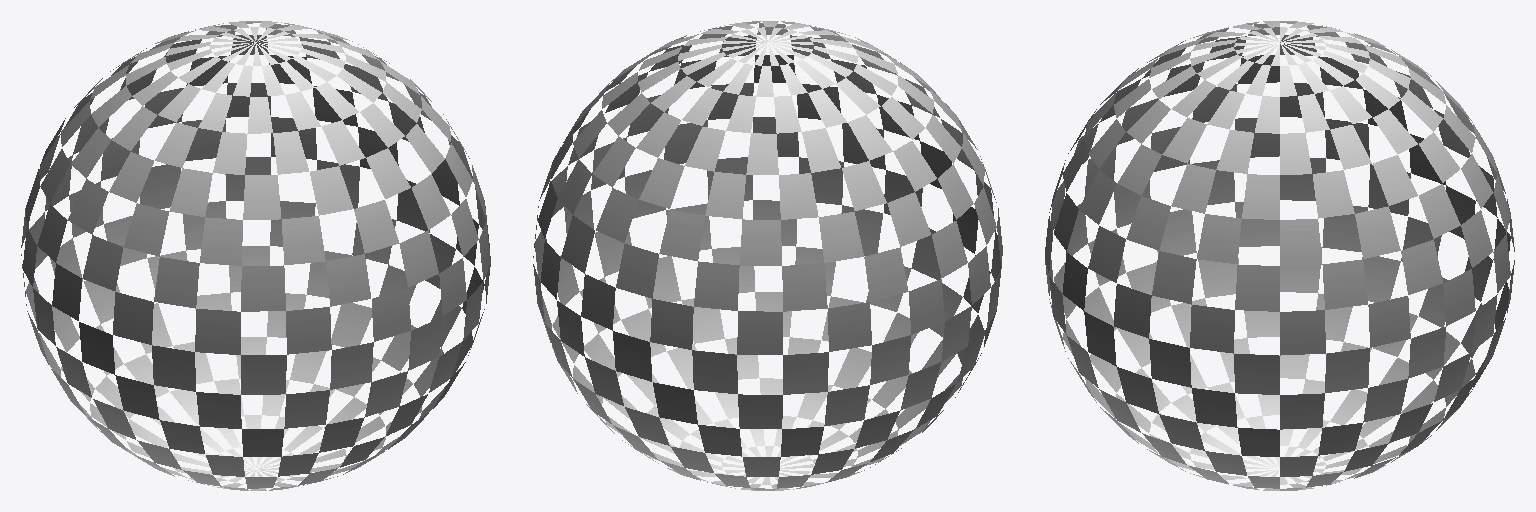
3 renders of one model, left to right at view 1: azimuth 30°, elevation 25°; view 2: azimuth 150°, elevation 25°; view 3: azimuth 270°, elevation 25°, orthographic.
Parts seen in each view (by area): view 1: sphere_球; view 2: sphere_球; view 3: sphere_球.
Boxes of the visible parts, x1,y1,x2,y2 form: sphere_球: [21, 21, 490, 490]; sphere_球: [533, 21, 1002, 490]; sphere_球: [1045, 21, 1514, 490].
Size of the model in its own units: 2 by 2 by 2.
Materials: 1 (1 with a texture image).